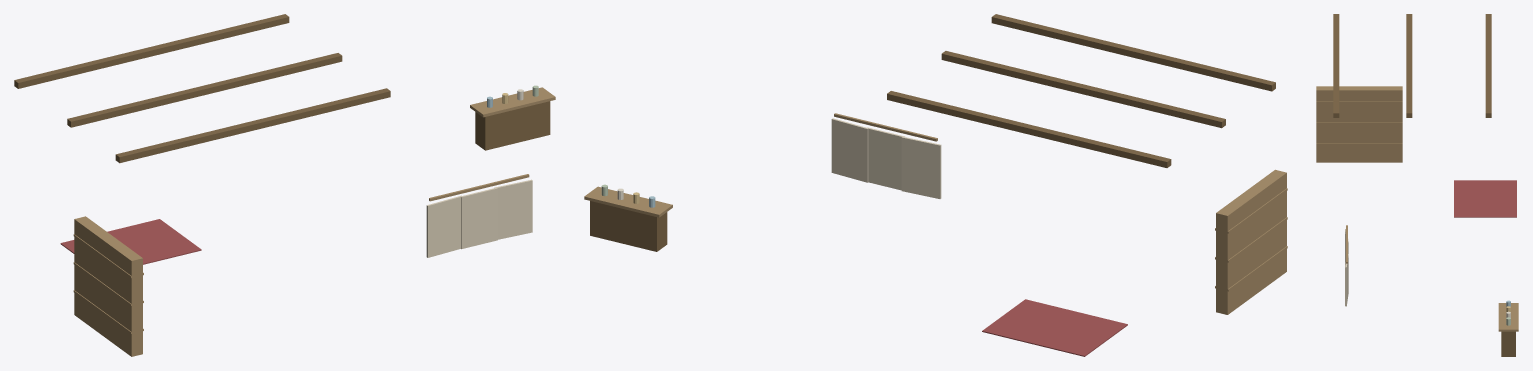
The model's file is studio.glb.
The picture shows the model from 3 angles, left to right: view 1: azimuth 30°, elevation 25°; view 2: azimuth 150°, elevation 25°; view 3: azimuth 270°, elevation 25°; orthographic projection. The views are drawn at different scales.
Parts seen in each view (by area): view 1: sshelf, sbeam.002, sbeam, sbeam.001, wbenchleg, srug, rackcv.001, rackcv.002, rackcv, wbench, rackrail; view 2: sshelf, srug, sbeam.002, sbeam, sbeam.001, wbenchleg, rackcv, rackcv.002, rackcv.001, wbench; view 3: sshelf, srug, sbeam, sbeam.001, sbeam.002, wbench, wbenchleg, sshelfboard, sshelfboard.001, sshelfboard.002, rackcv.002.
Boxes of the visible parts, x1,y1,x2,y2 form: sshelf: [74, 216, 142, 356]; sbeam.002: [115, 88, 390, 163]; sbeam: [14, 14, 289, 88]; sbeam.001: [67, 53, 342, 127]; wbenchleg: [475, 101, 550, 150]; srug: [60, 219, 201, 264]; rackcv.001: [461, 187, 497, 249]; rackcv.002: [494, 179, 532, 239]; rackcv: [426, 195, 461, 257]; wbench: [470, 87, 555, 117]; rackrail: [429, 174, 529, 201]; sshelf: [1216, 169, 1286, 314]; srug: [982, 299, 1127, 356]; sbeam.002: [991, 14, 1275, 91]; sbeam: [887, 91, 1171, 167]; sbeam.001: [941, 51, 1225, 128]; wbenchleg: [590, 201, 667, 251]; rackcv: [901, 136, 941, 198]; rackcv.002: [831, 118, 868, 182]; rackcv.001: [867, 127, 904, 190]; wbench: [584, 186, 672, 217]; sshelf: [1316, 86, 1402, 162]; srug: [1454, 180, 1516, 217]; sbeam: [1485, 14, 1491, 117]; sbeam.001: [1406, 14, 1412, 117]; sbeam.002: [1333, 14, 1339, 117]; wbench: [1498, 303, 1518, 331]; wbenchleg: [1501, 331, 1515, 356]; sshelfboard: [1316, 143, 1402, 145]; sshelfboard.001: [1316, 122, 1402, 124]; sshelfboard.002: [1316, 101, 1402, 103]; rackcv.002: [1345, 254, 1348, 306].
Size of the model in its own units: 14.3 by 4.79 by 6.1.
